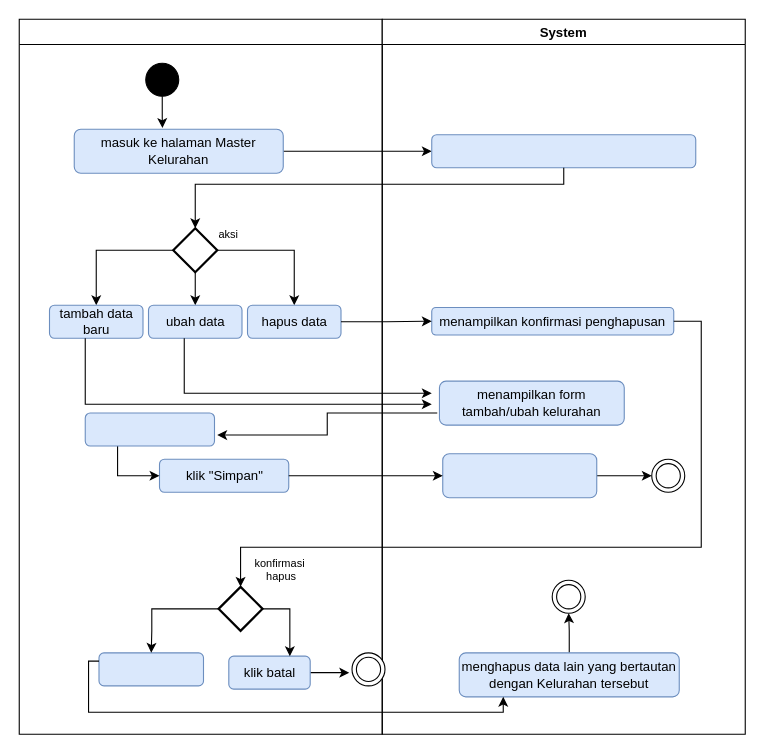
This 765x754 diagram has some shape labels left out. Each missing label, with the box of its shape:
Admin: (18, 18, 382, 734)
klik hapus: (98, 652, 204, 686)
menampilkan halaman daftar Master Kelurahan: (431, 134, 696, 168)
mengisi data yang diperlukan: (84, 412, 215, 446)
menyimpan perubahan data kelurahan: (442, 453, 597, 498)
